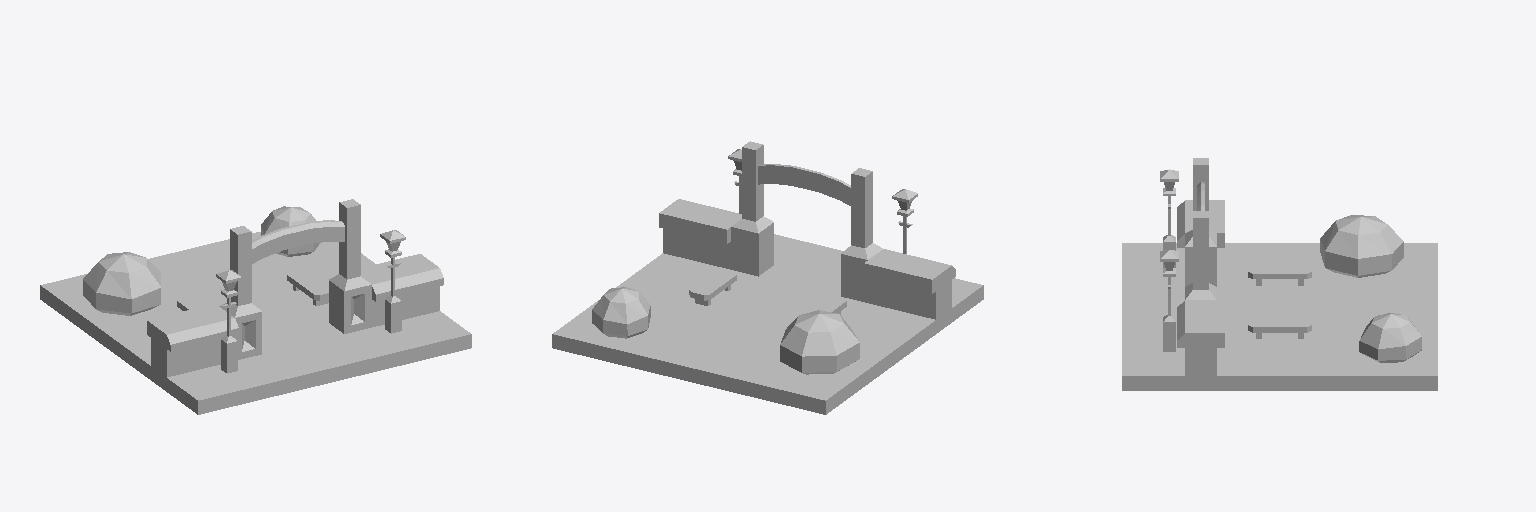
File: park_wall_entry_decorated.obj
3 renders of one model, left to right at view 1: azimuth 30°, elevation 25°; view 2: azimuth 150°, elevation 25°; view 3: azimuth 270°, elevation 25°, orthographic.
Visible parts, largest first — view 1: park_wall_entry_decorated_Cube.14218; view 2: park_wall_entry_decorated_Cube.14218; view 3: park_wall_entry_decorated_Cube.14218.
Boxes of the visible parts, <box> form: park_wall_entry_decorated_Cube.14218: <box>40,199,471,414</box>; park_wall_entry_decorated_Cube.14218: <box>552,141,983,414</box>; park_wall_entry_decorated_Cube.14218: <box>1122,158,1437,390</box>.
Size of the model in its own units: 2 by 0.95 by 2.